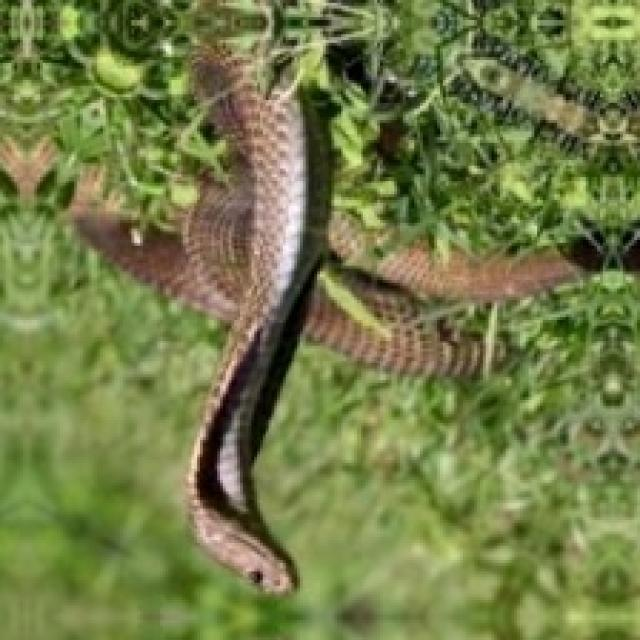philippine cobra: (71, 46, 580, 589), (460, 57, 637, 166), (591, 271, 634, 403), (594, 171, 614, 194)
